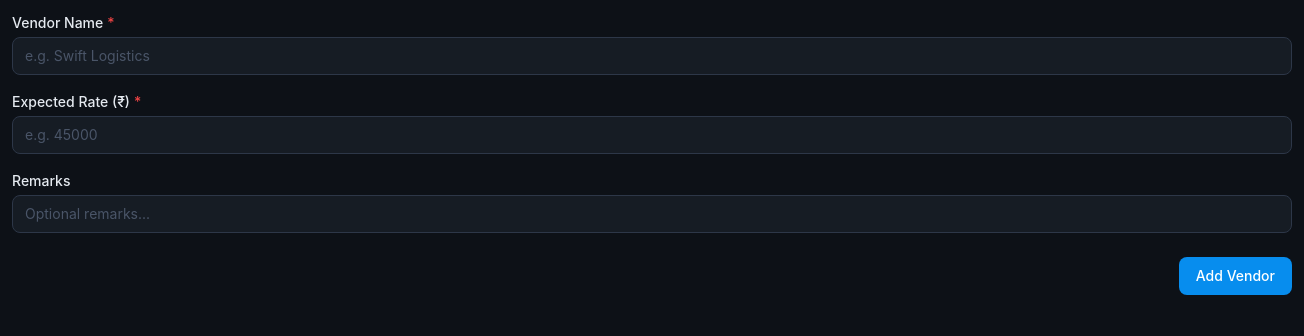
Test case: AddVendorForm › shows rate error when expected rate is missing
The image size is (1304, 336).
Step 1. Type "Test Vendor" into the field labelled "Vendor Name*" → (652, 56), box left=12, top=37, right=1292, bottom=75
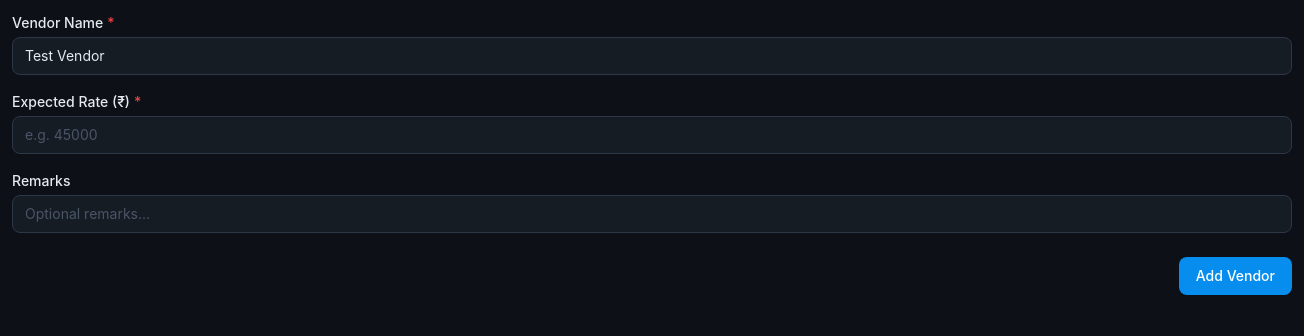
Step 2. Click the button "Add Vendor" → click(1235, 276), box left=1179, top=257, right=1292, bottom=295
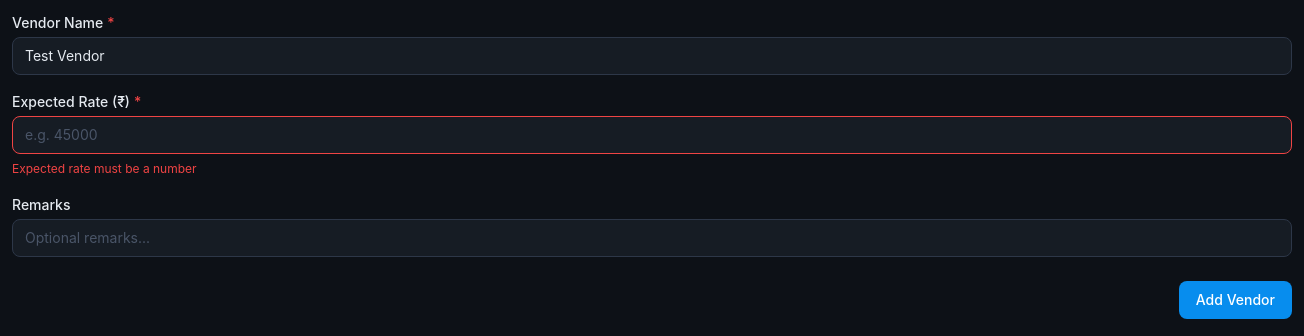
Now the text "Expected rate must be a number" is shown, box left=12, top=161, right=197, bottom=176
